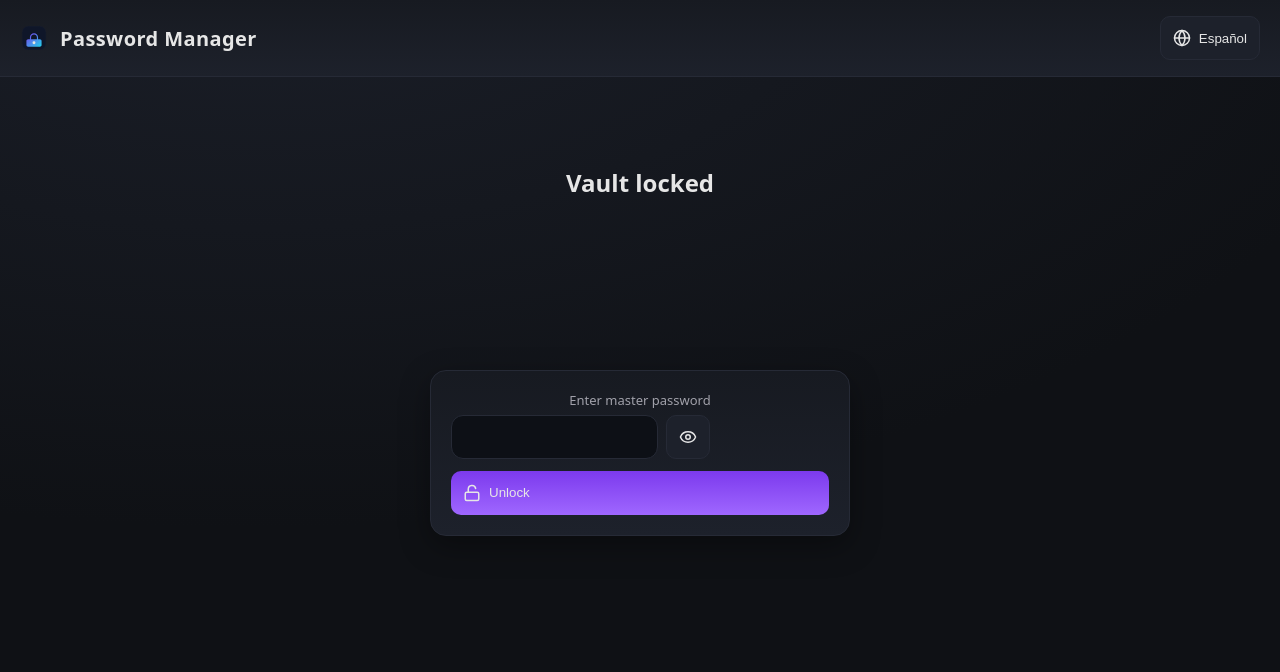
Test: destructive-actions › clear-all requires two clicks and lands on a coherent setup state
Expected: the heading "Vault locked" is shown, [566,166,714,199]
Type "Str0ng!Pass" into the password field labelled "Enter master password". click: (554,437)
box: [451,415,658,459]
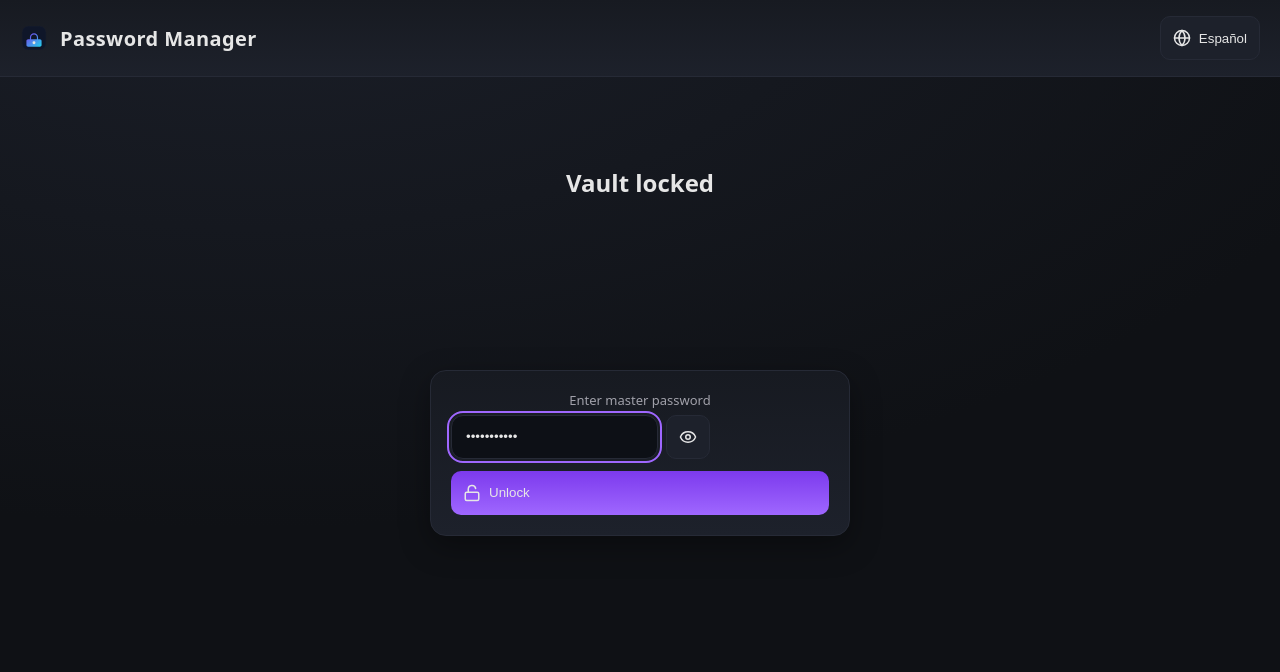
Click the button "Unlock". click: (509,493)
box: [451,471,829,515]
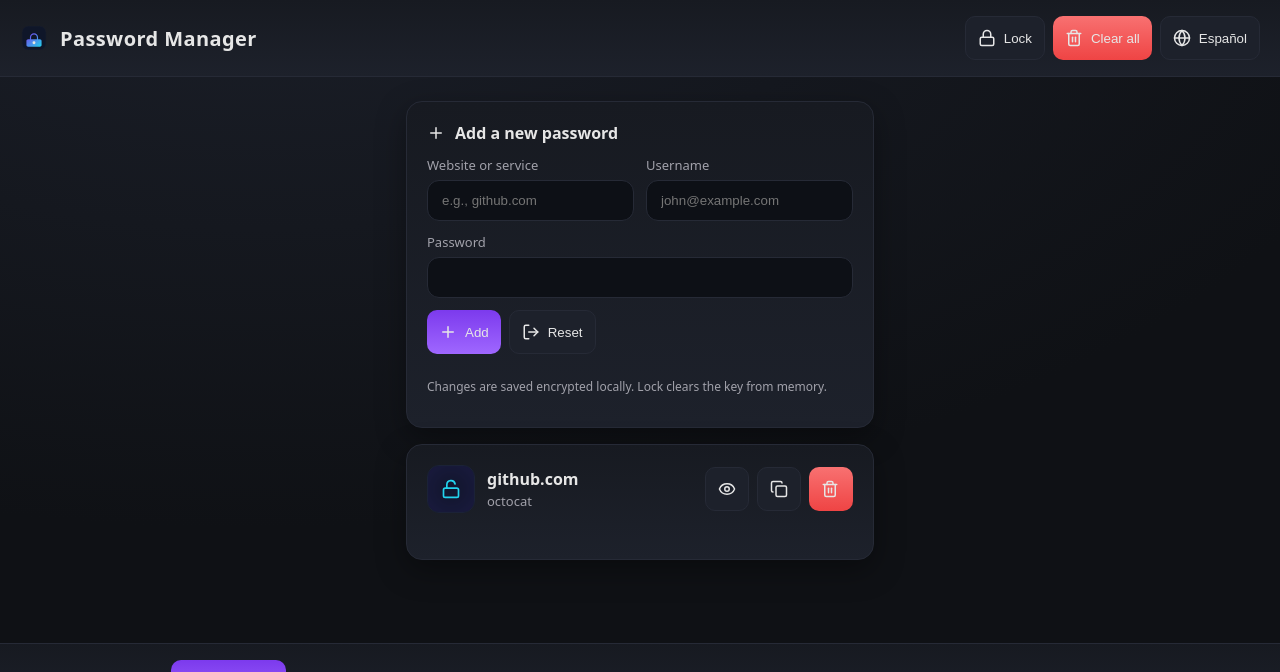
Expected: the text "github.com" is shown, [487,468,578,490]
Click the button "Clear all". click: (1102,38)
box: [1053,16,1152,60]
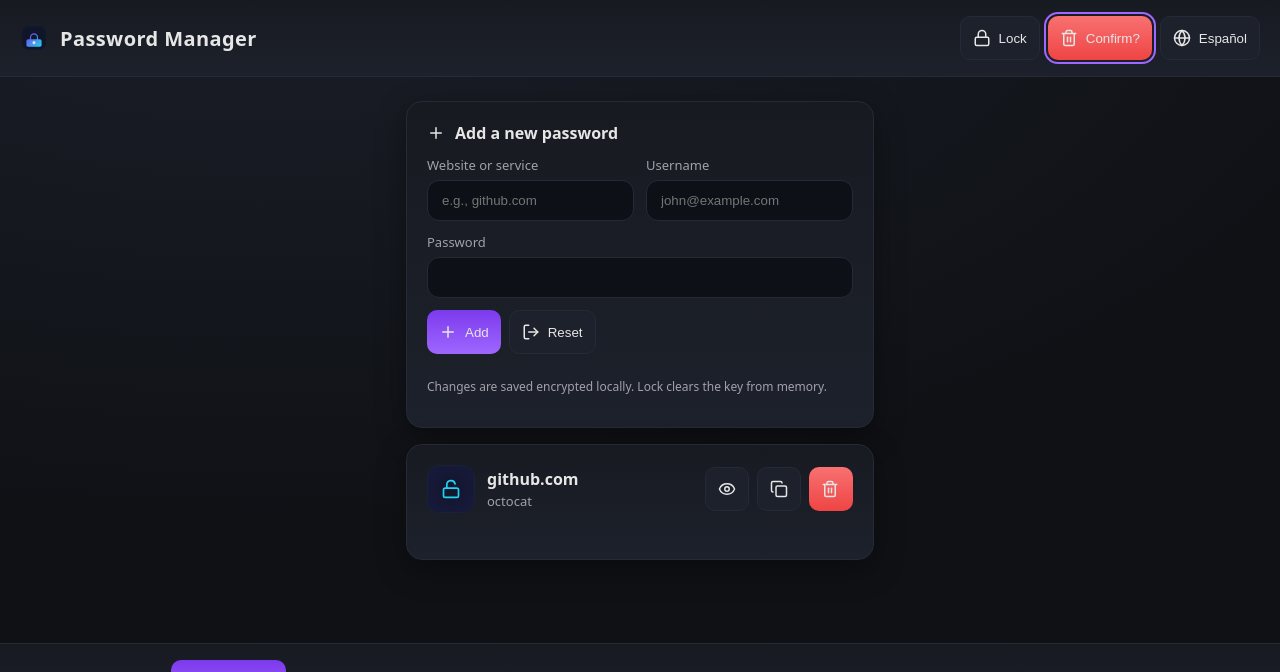
Expected: the text "github.com" is shown, [487,468,578,490]
Expected: the button with aria-label "clear all" reads "Confirm?"
Click the button with aria-label "clear all". click: (1100,38)
box: [1048,16,1152,60]
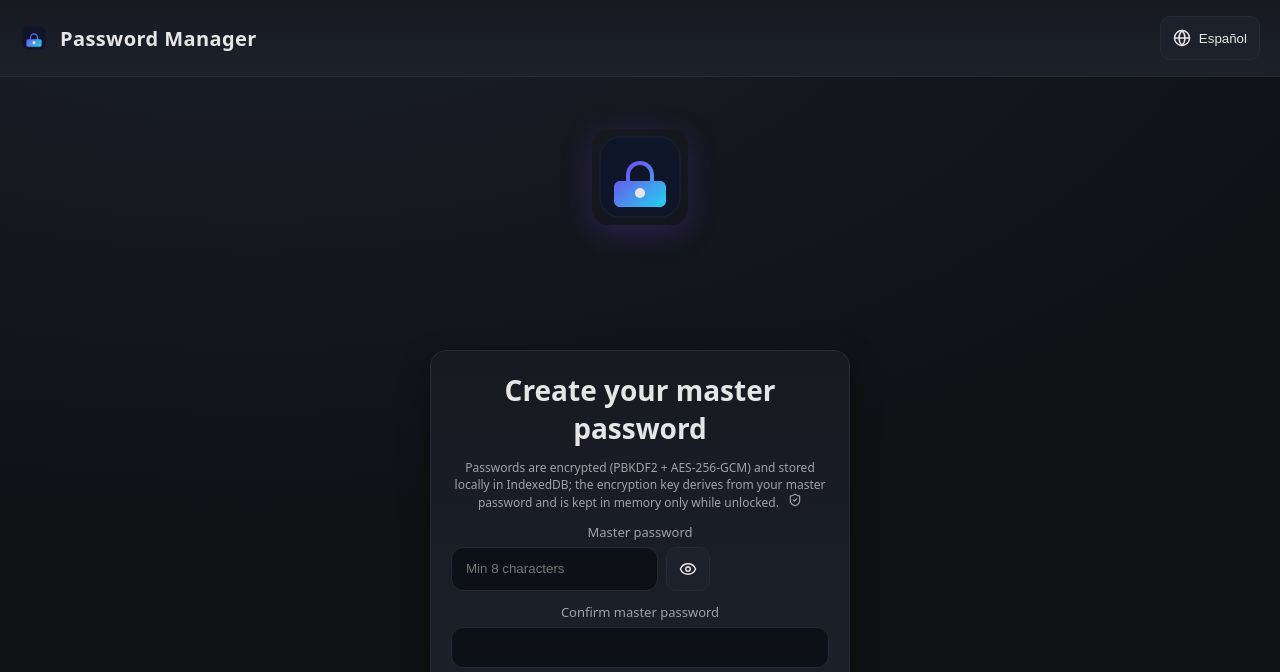
Expected: the text "github.com" is gone
Expected: the heading "Create your master password" is shown, [505,371,775,447]
